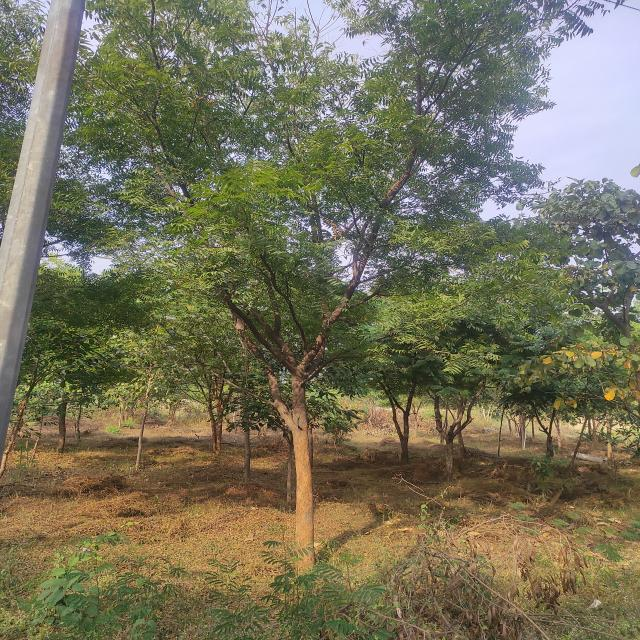Neem Tree: (101, 9, 516, 527)
